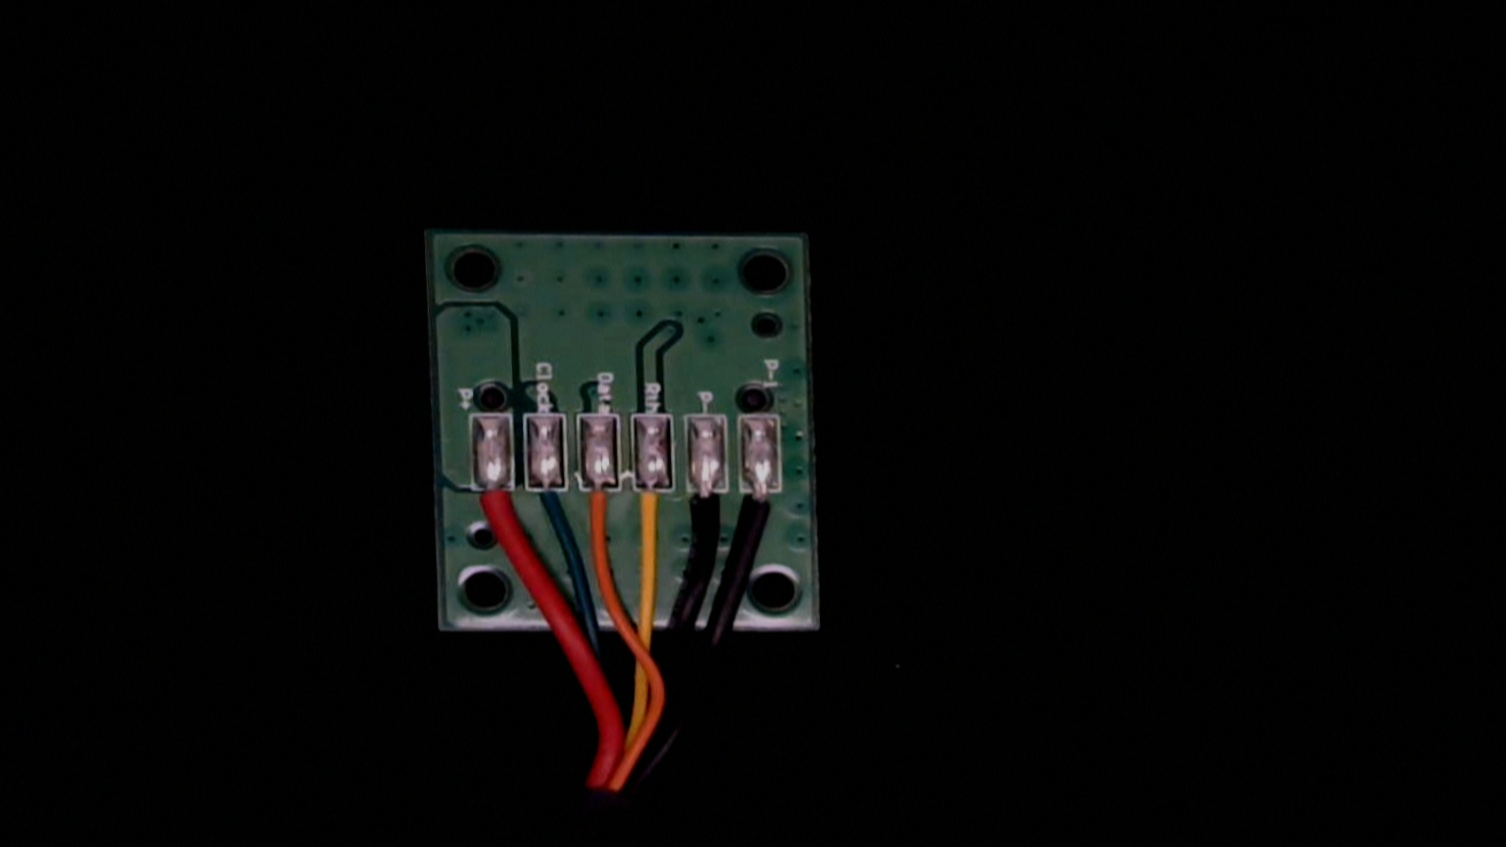Black: (686, 470, 732, 540)
Black1: (741, 470, 785, 542)
Green: (522, 468, 572, 538)
Orange: (576, 468, 624, 549)
Red: (473, 465, 520, 546)
Yellow: (633, 472, 679, 546)
